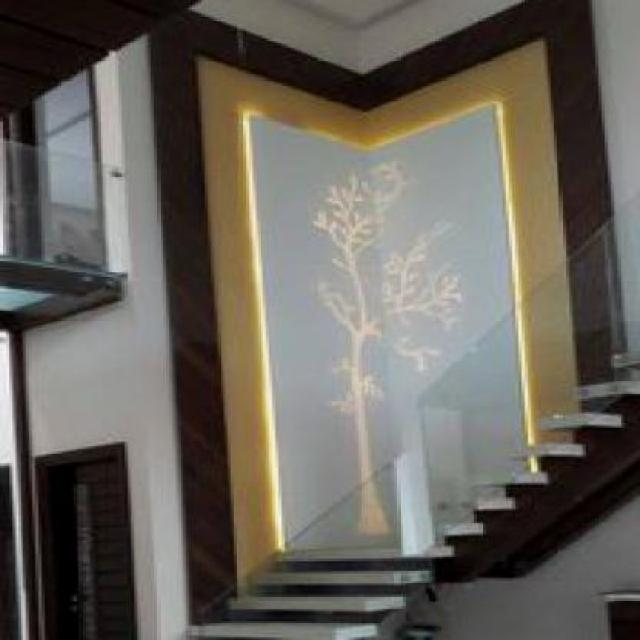stair: (71, 270, 638, 638)
